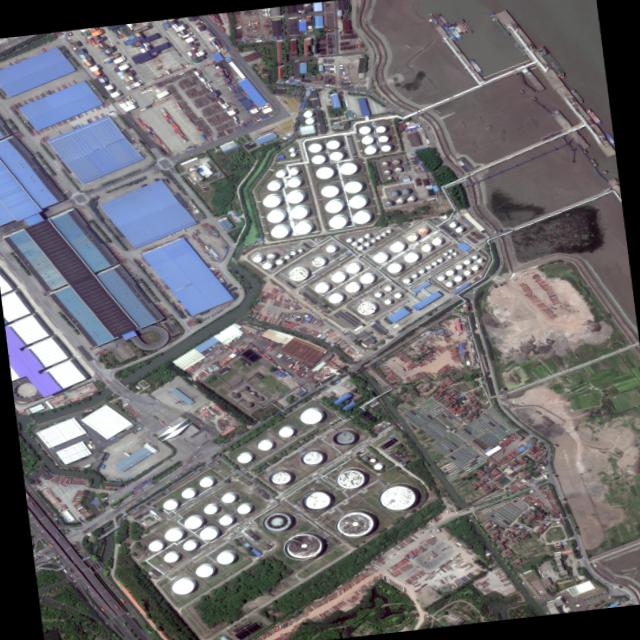large-vehicle: (54, 495, 60, 501), (195, 417, 202, 422), (185, 465, 192, 470), (164, 478, 171, 483), (54, 532, 60, 537), (47, 541, 53, 546), (159, 419, 165, 424), (113, 504, 120, 508), (125, 502, 132, 506), (134, 497, 141, 501), (29, 501, 34, 506), (63, 502, 68, 507), (61, 503, 66, 508), (132, 490, 138, 494), (54, 518, 58, 524), (82, 527, 88, 531), (193, 461, 200, 464)
ship: (536, 44, 567, 78), (489, 12, 511, 35), (584, 106, 603, 124), (458, 17, 473, 33), (468, 57, 483, 72), (569, 87, 584, 102), (442, 25, 457, 39), (513, 41, 527, 56), (436, 11, 449, 24), (455, 19, 467, 32), (451, 21, 463, 34), (604, 131, 614, 146), (435, 15, 445, 26)
storage-tank: (282, 530, 324, 561), (335, 509, 374, 538), (378, 483, 417, 511), (301, 488, 331, 512), (261, 510, 293, 532), (335, 468, 365, 489), (268, 468, 292, 486), (331, 428, 356, 445), (299, 407, 323, 424), (300, 449, 324, 466), (170, 577, 193, 594), (356, 300, 376, 315), (288, 266, 308, 280), (198, 526, 218, 540), (164, 527, 183, 541), (194, 563, 213, 577), (320, 183, 339, 197), (343, 179, 362, 193), (446, 22, 462, 38), (215, 550, 233, 564), (328, 214, 346, 228), (293, 220, 311, 234), (270, 224, 288, 238), (262, 193, 280, 207), (351, 210, 370, 223), (315, 165, 334, 178), (324, 199, 343, 212), (338, 161, 357, 174), (183, 515, 201, 528), (285, 190, 303, 203), (266, 209, 284, 222), (289, 205, 307, 218), (348, 195, 366, 208), (162, 550, 178, 562), (344, 280, 360, 292), (327, 291, 343, 303), (257, 438, 273, 450), (236, 451, 251, 463), (371, 251, 387, 262), (386, 261, 402, 272), (403, 251, 419, 262), (162, 498, 178, 509), (330, 271, 345, 282), (314, 281, 329, 292), (359, 272, 374, 283), (221, 491, 236, 502), (307, 141, 322, 152), (277, 426, 293, 436), (311, 255, 325, 266), (345, 262, 359, 273), (182, 539, 196, 550), (148, 540, 162, 551), (325, 138, 339, 149), (286, 176, 300, 187), (389, 241, 404, 251), (202, 503, 217, 513), (180, 487, 195, 497), (198, 476, 213, 486), (236, 503, 251, 513), (328, 150, 343, 160), (310, 153, 325, 163), (218, 514, 232, 524), (266, 180, 280, 190), (361, 134, 373, 144), (358, 124, 370, 133), (363, 145, 376, 153), (325, 244, 336, 252), (417, 226, 428, 234), (420, 243, 431, 251), (375, 124, 385, 132), (261, 261, 272, 268), (406, 233, 417, 240), (377, 134, 388, 141), (380, 143, 391, 150), (252, 254, 261, 262), (303, 109, 312, 117), (265, 252, 275, 259), (431, 237, 441, 244), (304, 116, 314, 123), (275, 169, 285, 176), (288, 167, 298, 174), (453, 274, 462, 281), (373, 462, 382, 469), (445, 268, 453, 275), (393, 291, 401, 298), (436, 274, 445, 280), (274, 258, 283, 264), (391, 158, 400, 164), (471, 264, 479, 270), (445, 280, 453, 286), (383, 284, 391, 290), (395, 197, 403, 203), (393, 166, 402, 171), (383, 168, 390, 174), (463, 258, 471, 263), (455, 263, 463, 268), (463, 269, 471, 274), (402, 277, 410, 282), (383, 298, 391, 303), (390, 190, 398, 195), (401, 188, 409, 193), (384, 200, 392, 205), (406, 196, 414, 201), (410, 272, 417, 277), (361, 455, 368, 460), (374, 291, 381, 296), (449, 221, 456, 226), (455, 226, 462, 231), (381, 160, 388, 165), (471, 253, 477, 258), (289, 151, 295, 156), (289, 250, 296, 254), (283, 254, 290, 258), (476, 258, 483, 262), (345, 237, 352, 241), (369, 457, 376, 461), (297, 247, 303, 251), (436, 257, 442, 261), (425, 264, 431, 268), (418, 268, 424, 272), (351, 241, 357, 245), (357, 245, 363, 249), (363, 241, 369, 245), (288, 147, 294, 151), (385, 228, 391, 232), (363, 233, 369, 237), (357, 237, 363, 241), (431, 260, 436, 264), (380, 231, 385, 235), (386, 175, 392, 178), (370, 238, 375, 241), (375, 235, 380, 238), (448, 248, 452, 251), (452, 251, 456, 254), (443, 251, 447, 254), (447, 254, 451, 257)
